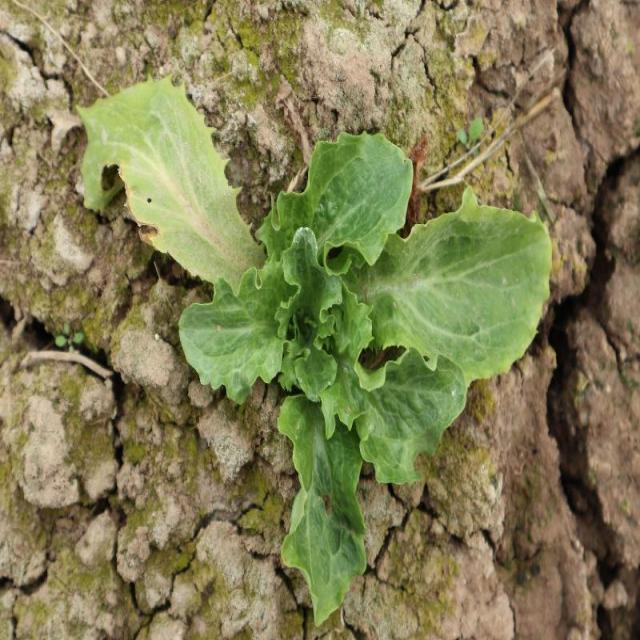crop: (72, 75, 555, 629)
